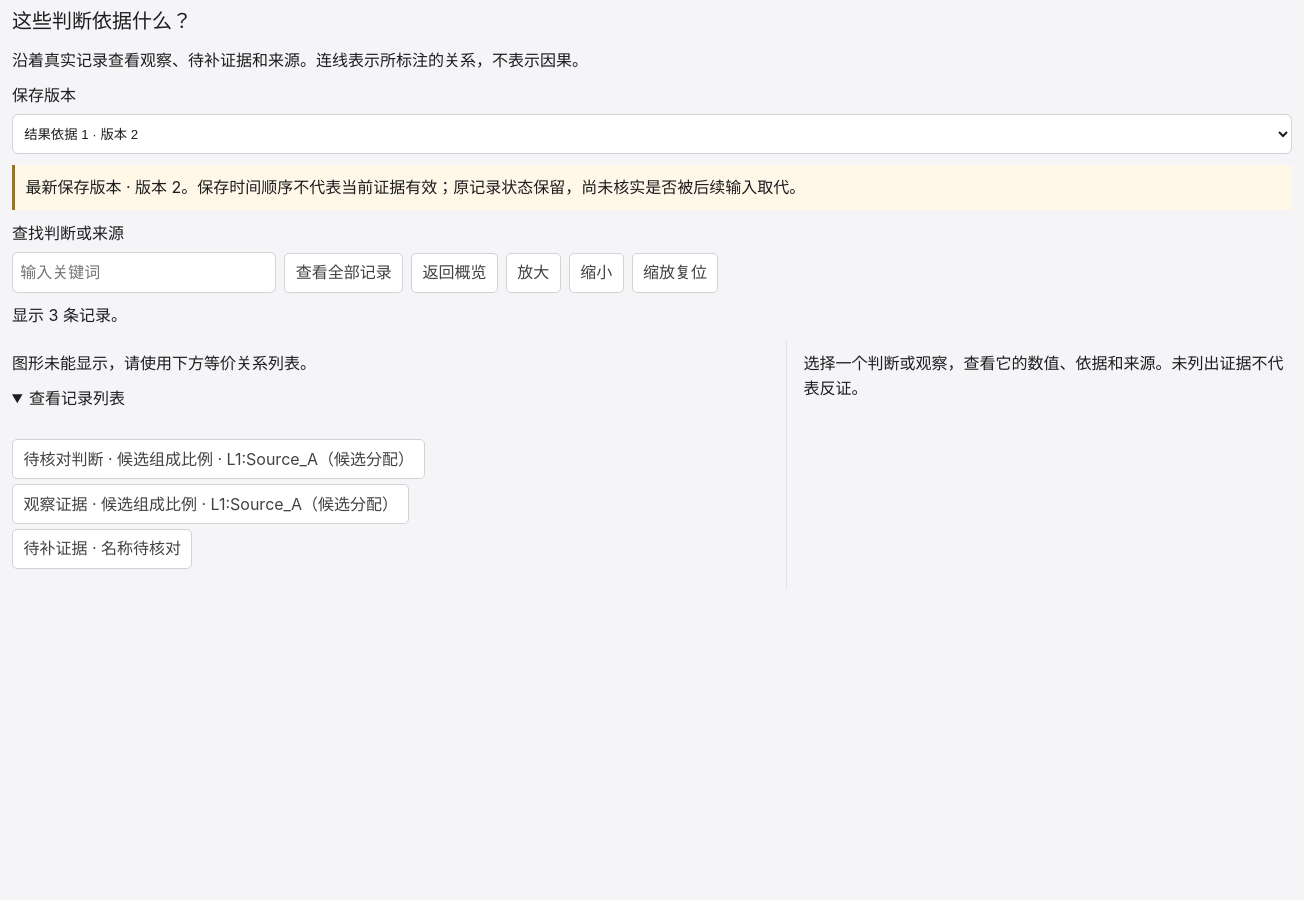
Test: candidate composition display › receives graph preview names in search, selection and source drilldown, resetting on version change
Step 1. Type "Source_A" into the field → (144, 272), box [12, 252, 276, 293]
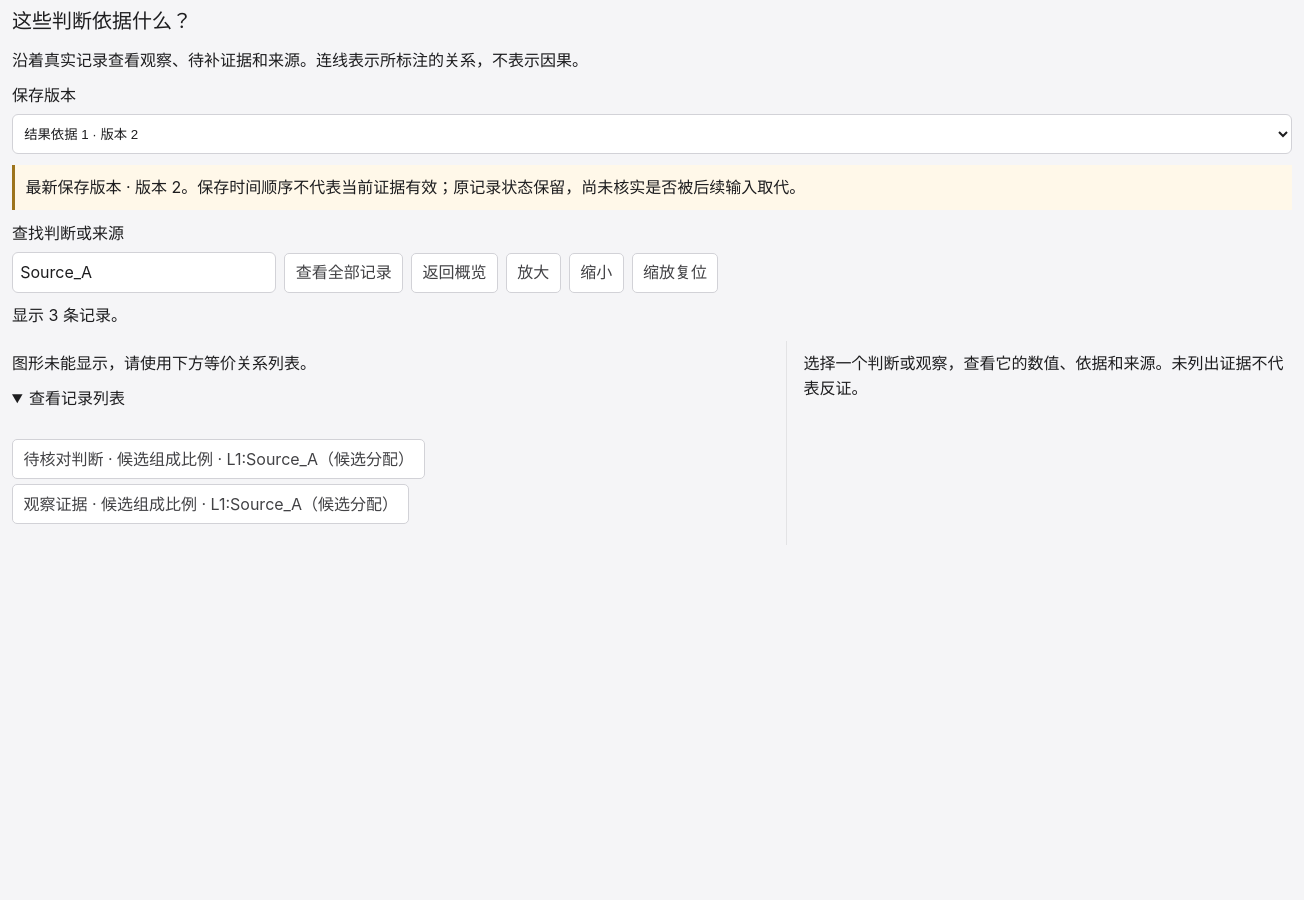
Step 2. Click the button "观察证据 · 候选组成比例 · L1:Source_A（候选分配）" → (211, 504), box [12, 484, 409, 524]
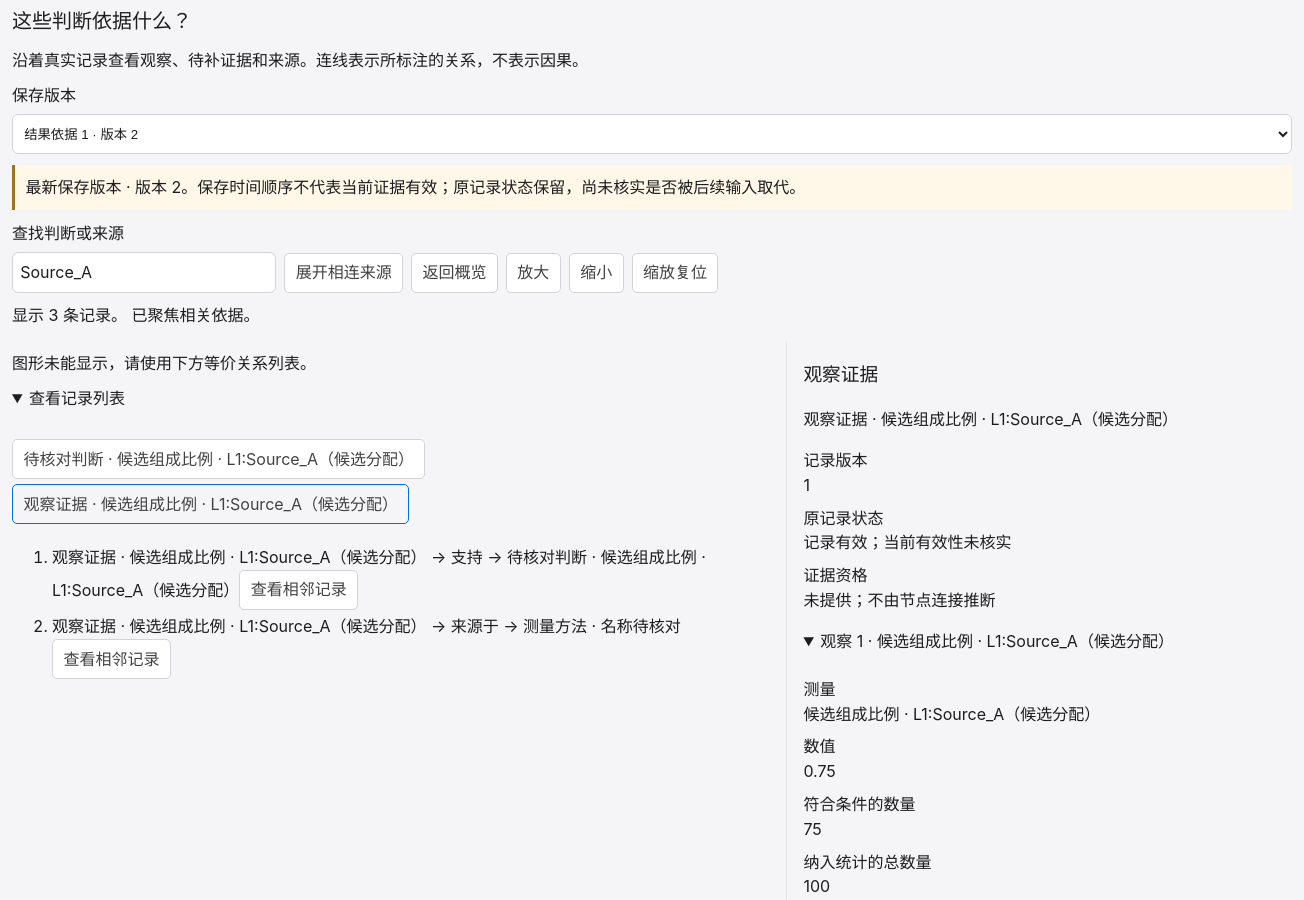
Expected: the text "0.75" is shown, [803, 761, 836, 781]
Expected: the text "75" is shown, [803, 819, 822, 839]
Expected: the text "100" is shown, [803, 876, 830, 896]
Step 3. Select "结果依据 1 · 版本 1" in the dropdown → (652, 134), box [12, 114, 1292, 154]
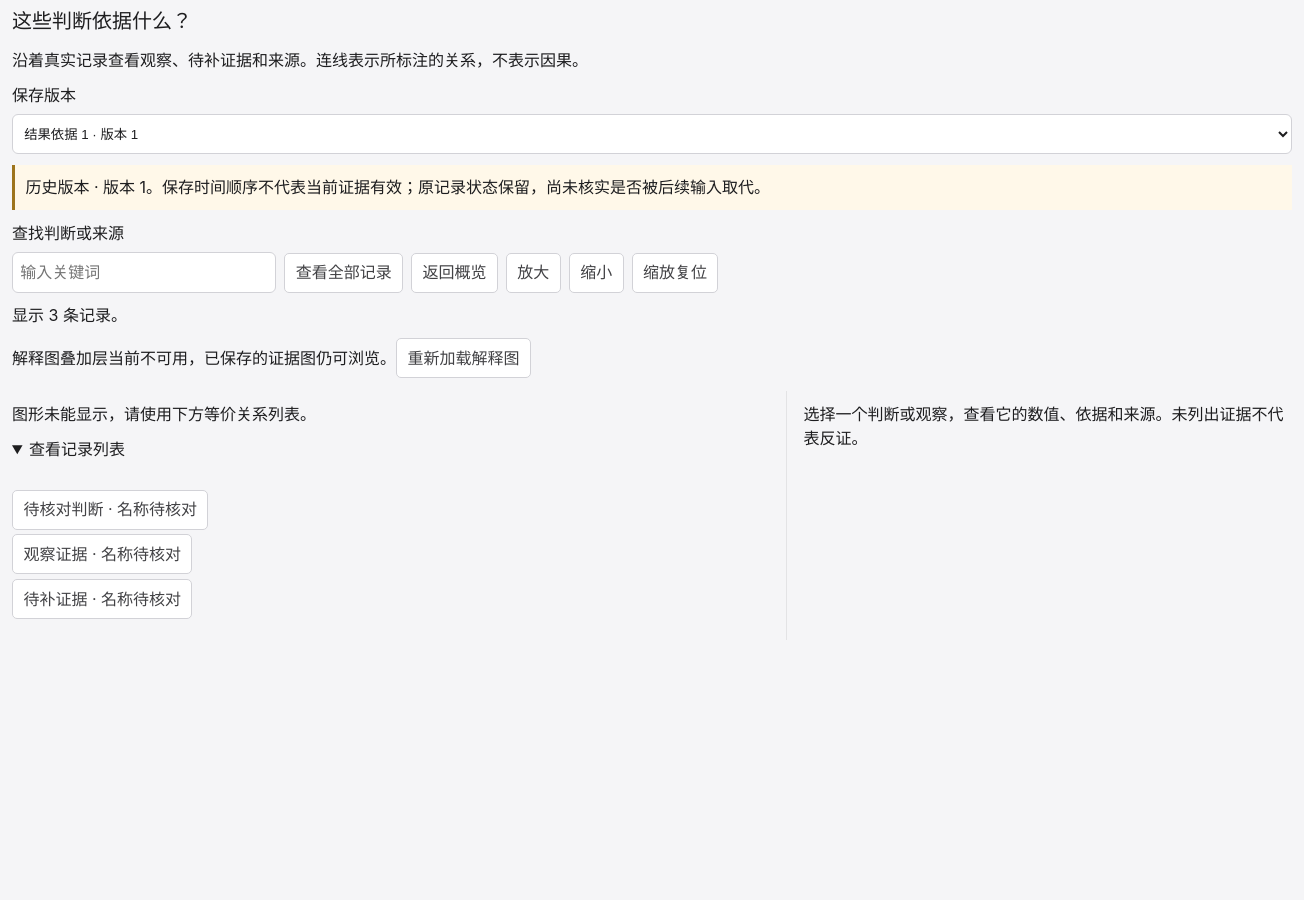
Expected: the button "Source_A" is gone
